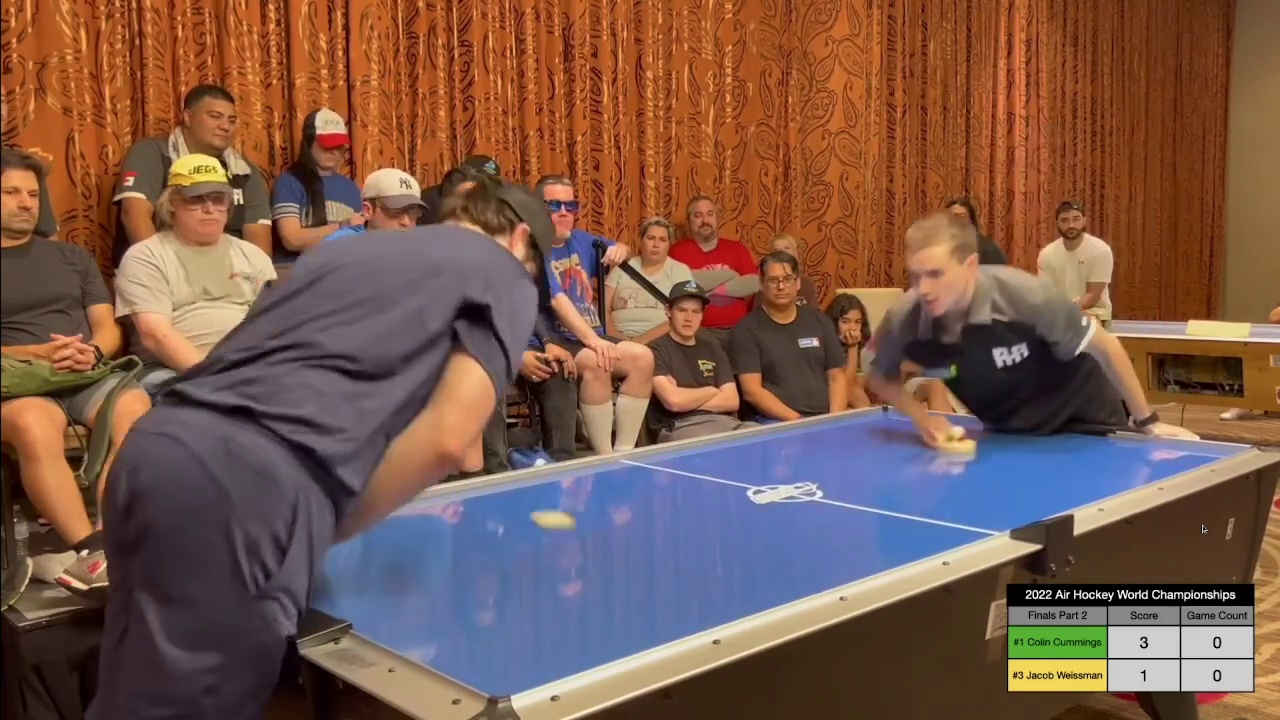player: (930, 423, 985, 455)
puck: (527, 508, 579, 530)
table: (177, 402, 1280, 704)
